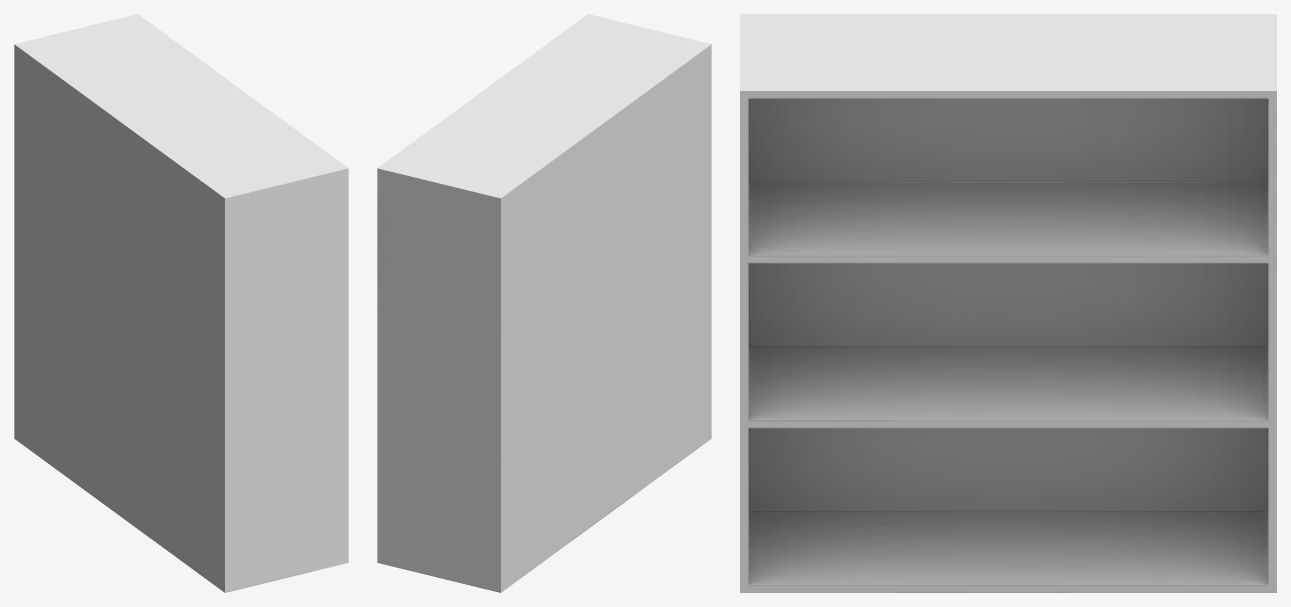
The model's file is cabinet-transformed.glb.
3 renders of one model, left to right at view 1: azimuth 30°, elevation 25°; view 2: azimuth 150°, elevation 25°; view 3: azimuth 270°, elevation 25°, orthographic. The views are drawn at different scales.
Visible parts, largest first — view 1: cabinet; view 2: cabinet; view 3: cabinet.
Part boxes in pixels (x1,y1,x2,y2): cabinet: (14, 14, 348, 592); cabinet: (377, 14, 711, 592); cabinet: (740, 14, 1276, 592).
Bounding box in the file's own units: 0.21 × 0.64 × 0.62.
Materials: 1 (1 with a texture image).
